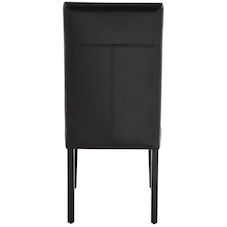chair: (42, 2, 202, 226)
